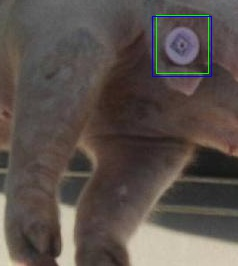text: (156, 15, 208, 73)
